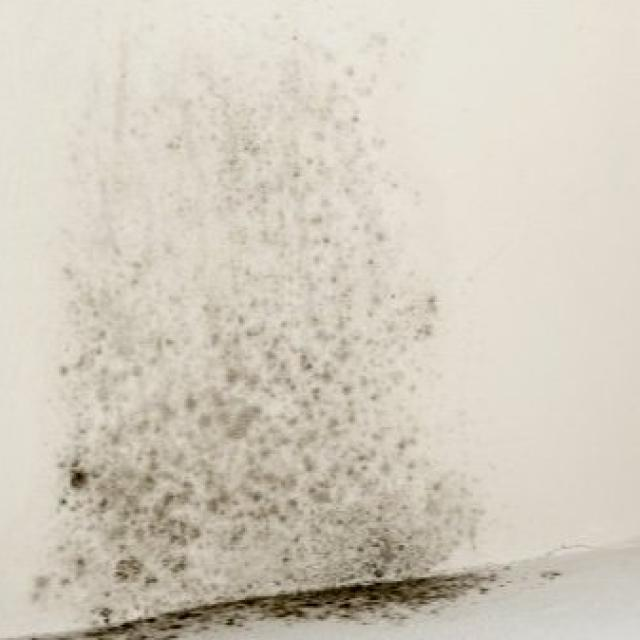dampness: (0, 528, 639, 639)
